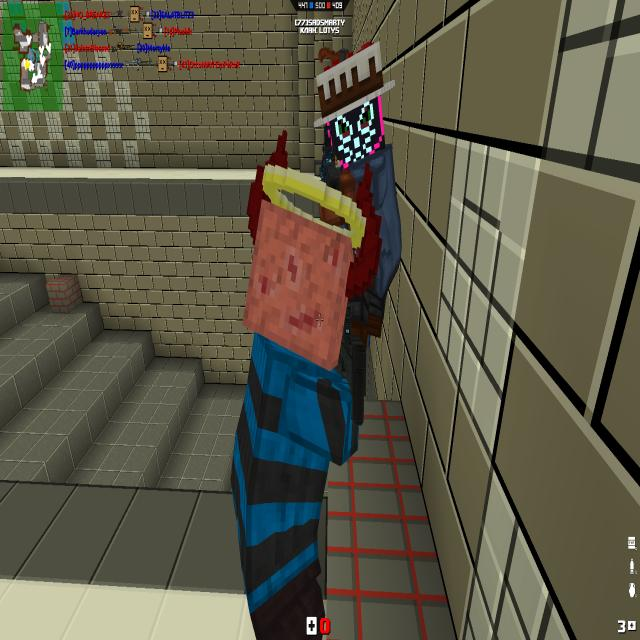player: (234, 41, 396, 614), (315, 39, 403, 340)
